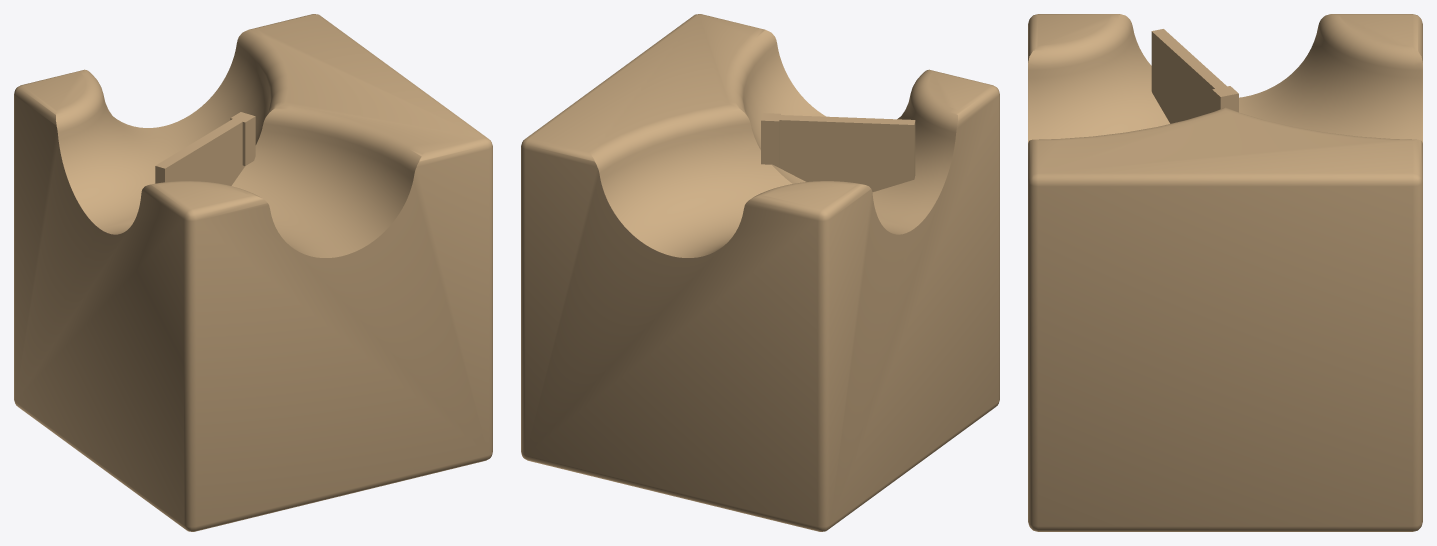
Rendered from mech_splitter_l3.glb.
The picture shows the model from 3 angles, left to right: view 1: azimuth 30°, elevation 25°; view 2: azimuth 150°, elevation 25°; view 3: azimuth 270°, elevation 25°; orthographic projection. The views are drawn at different scales.
Visible parts, largest first — view 1: mech_splitter_l3_lod0, anim_flap_lod0; view 2: mech_splitter_l3_lod0, anim_flap_lod0; view 3: mech_splitter_l3_lod0, anim_flap_lod0.
Part boxes in pixels (left/top/right/bottom): mech_splitter_l3_lod0: left=14, top=14, right=492, bottom=531; anim_flap_lod0: left=155, top=112, right=255, bottom=185; mech_splitter_l3_lod0: left=521, top=14, right=999, bottom=531; anim_flap_lod0: left=761, top=113, right=915, bottom=192; mech_splitter_l3_lod0: left=1028, top=14, right=1422, bottom=531; anim_flap_lod0: left=1151, top=29, right=1238, bottom=123.
Size of what is drawn, in the model's own units: 0.059 by 0.059 by 0.059.
